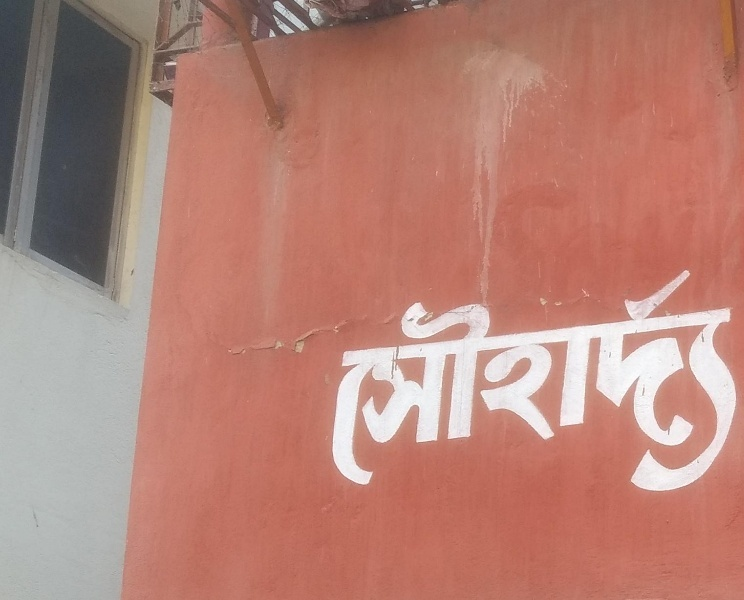text: (337, 258, 352, 497), (353, 258, 368, 497), (369, 258, 384, 497), (385, 258, 400, 497), (401, 258, 416, 497), (417, 258, 432, 497), (433, 258, 448, 497), (449, 258, 464, 497), (465, 258, 480, 497), (481, 258, 496, 497), (497, 258, 512, 497), (513, 258, 528, 497), (529, 258, 544, 497), (545, 258, 560, 497), (561, 258, 576, 497), (577, 258, 592, 497), (593, 258, 608, 497), (609, 258, 624, 497), (625, 258, 640, 497), (641, 258, 656, 497), (657, 258, 672, 497), (673, 258, 688, 497), (689, 258, 704, 497), (705, 258, 720, 497), (721, 258, 736, 497), (332, 258, 336, 497), (737, 258, 741, 497)
